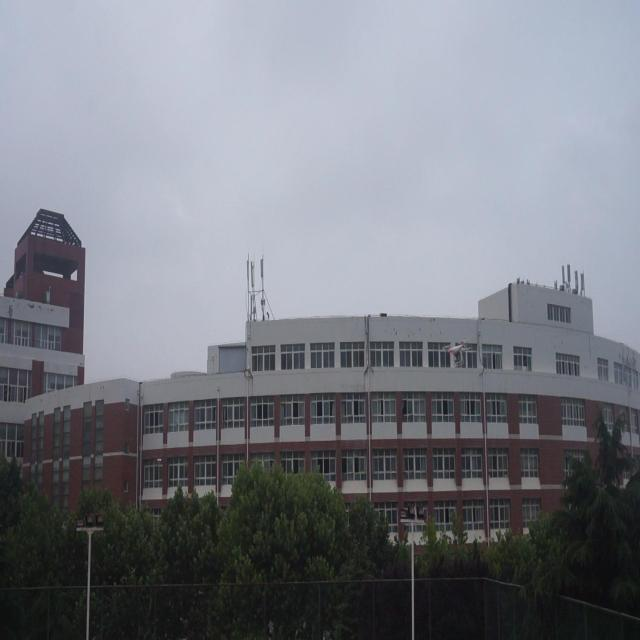drone: (442, 340, 473, 368)
